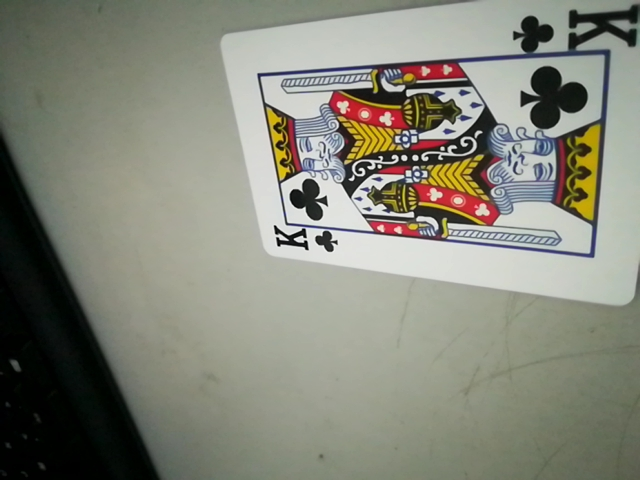mh k: (514, 2, 640, 59), (268, 221, 340, 261)
